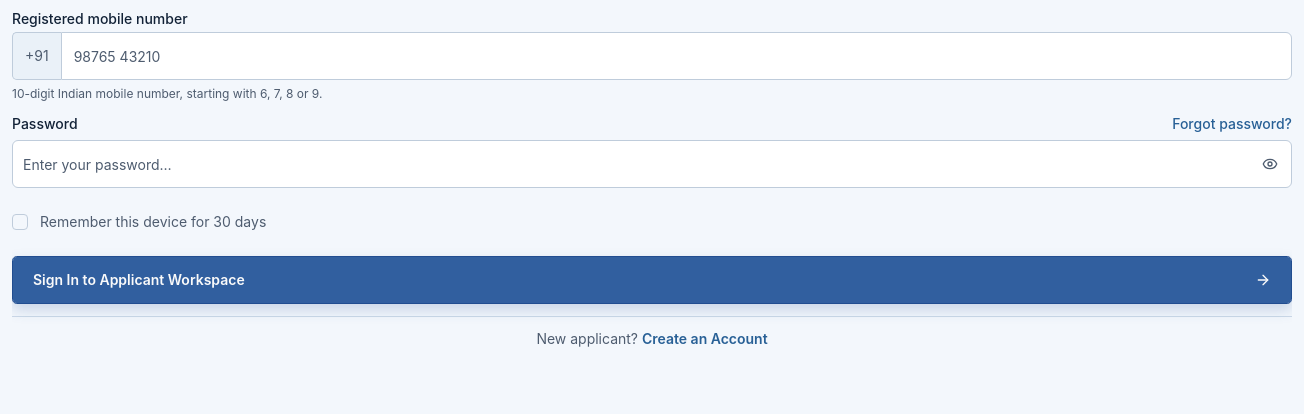
authentication workflow › shows a helpful invalid-credentials error returned by login
Type "9876543210" into the field labelled "Registered mobile number".
click(676, 56); type("9876543210")  # box [61,32,1292,80]
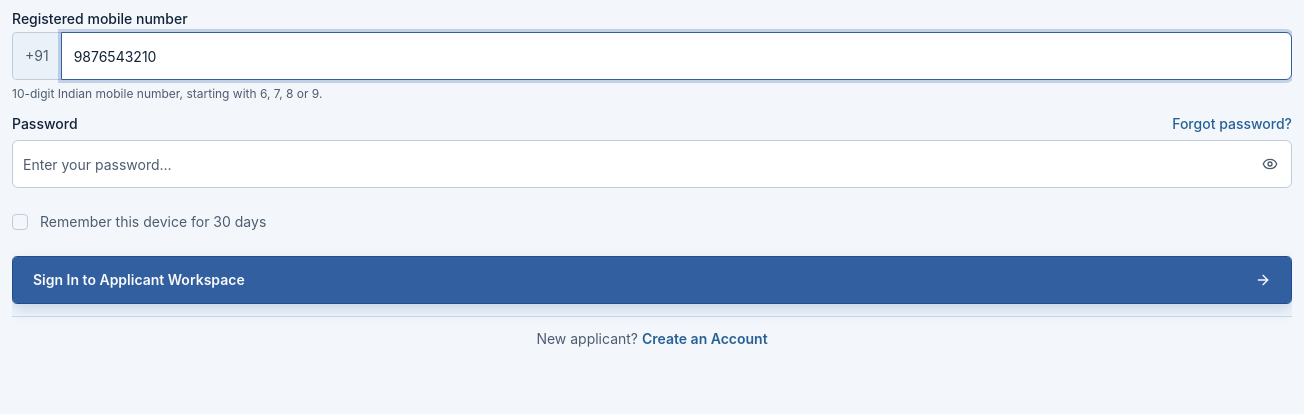
Type "wrong-password" into the password field labelled "Password".
click(652, 164); type("wrong-password")  # box [12,140,1292,188]
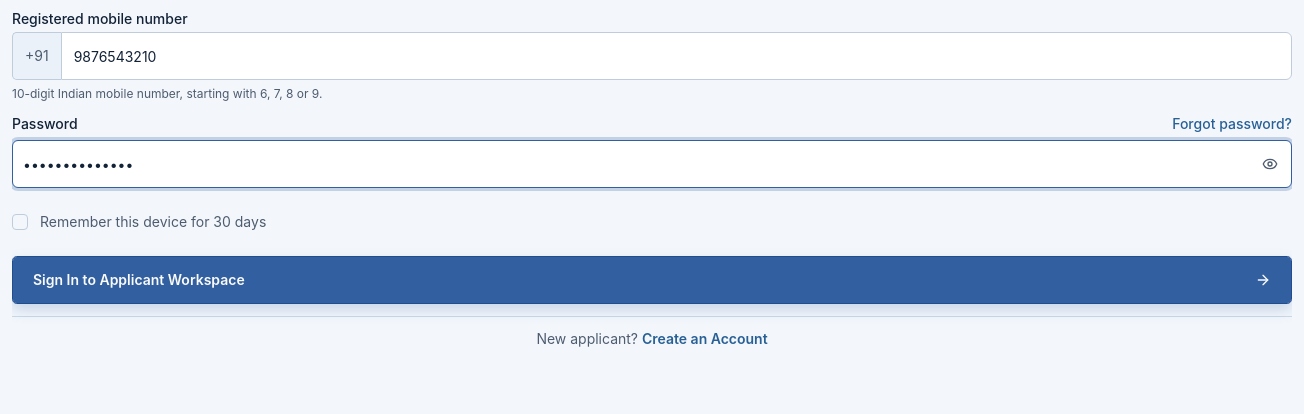
Click the button "Sign In to Applicant Workspace".
click(139, 280)  # box [12,256,1292,304]
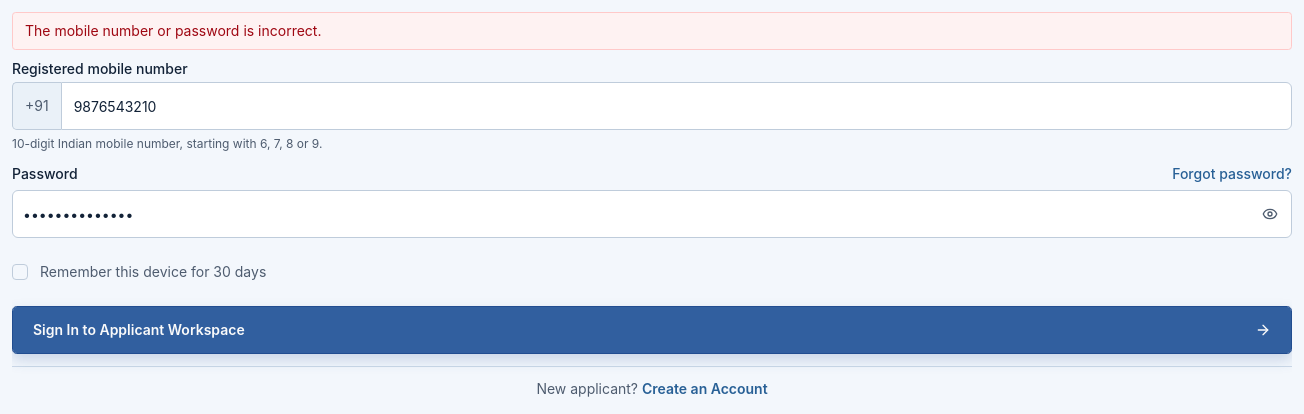
Check: the message shows "mobile number or password is incorrect", box [25,22,322,39]
